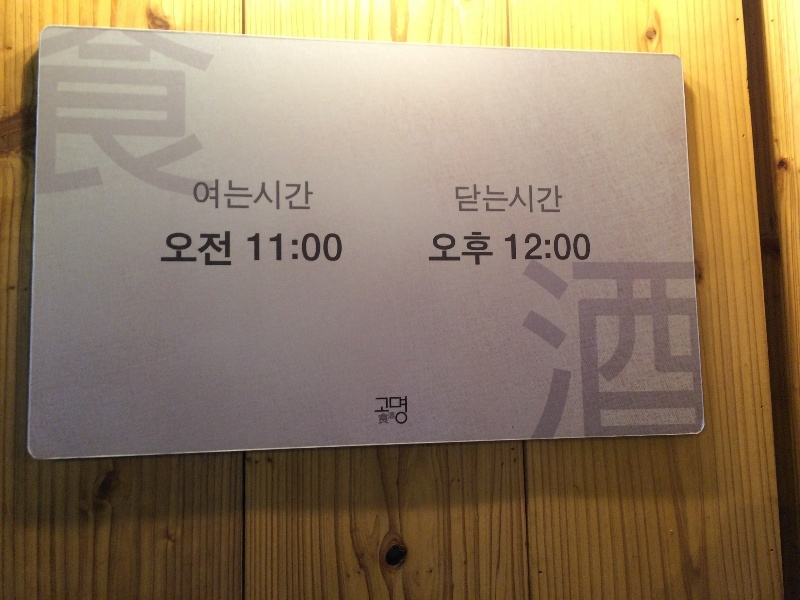text: (689, 258, 705, 443), (529, 258, 544, 443), (545, 258, 560, 443), (561, 258, 576, 443), (577, 258, 592, 443), (593, 258, 608, 443), (609, 258, 624, 443), (625, 258, 640, 443), (641, 258, 656, 443), (657, 258, 672, 443), (673, 258, 688, 443), (520, 258, 528, 443), (177, 231, 192, 268), (193, 231, 208, 268), (209, 231, 224, 268), (449, 231, 464, 267), (465, 231, 480, 267), (434, 231, 448, 267), (385, 396, 400, 428), (209, 179, 224, 211), (225, 179, 240, 211), (241, 179, 256, 211), (257, 179, 272, 211), (273, 179, 288, 211), (289, 179, 304, 211), (481, 231, 494, 267), (465, 184, 480, 214), (481, 184, 496, 214), (497, 184, 512, 214), (513, 184, 528, 214), (529, 184, 544, 214), (545, 184, 560, 214), (257, 232, 272, 262), (273, 232, 288, 262), (289, 232, 304, 262), (305, 232, 320, 262), (321, 232, 336, 262), (194, 179, 208, 211), (513, 233, 528, 261), (529, 233, 544, 261), (545, 233, 560, 261), (561, 233, 576, 261), (577, 233, 591, 261), (167, 231, 176, 268), (375, 396, 384, 428), (455, 184, 464, 214), (247, 232, 256, 262), (225, 231, 232, 268), (305, 179, 313, 211), (401, 396, 408, 428), (505, 233, 512, 261), (337, 232, 342, 262), (561, 184, 563, 214)
